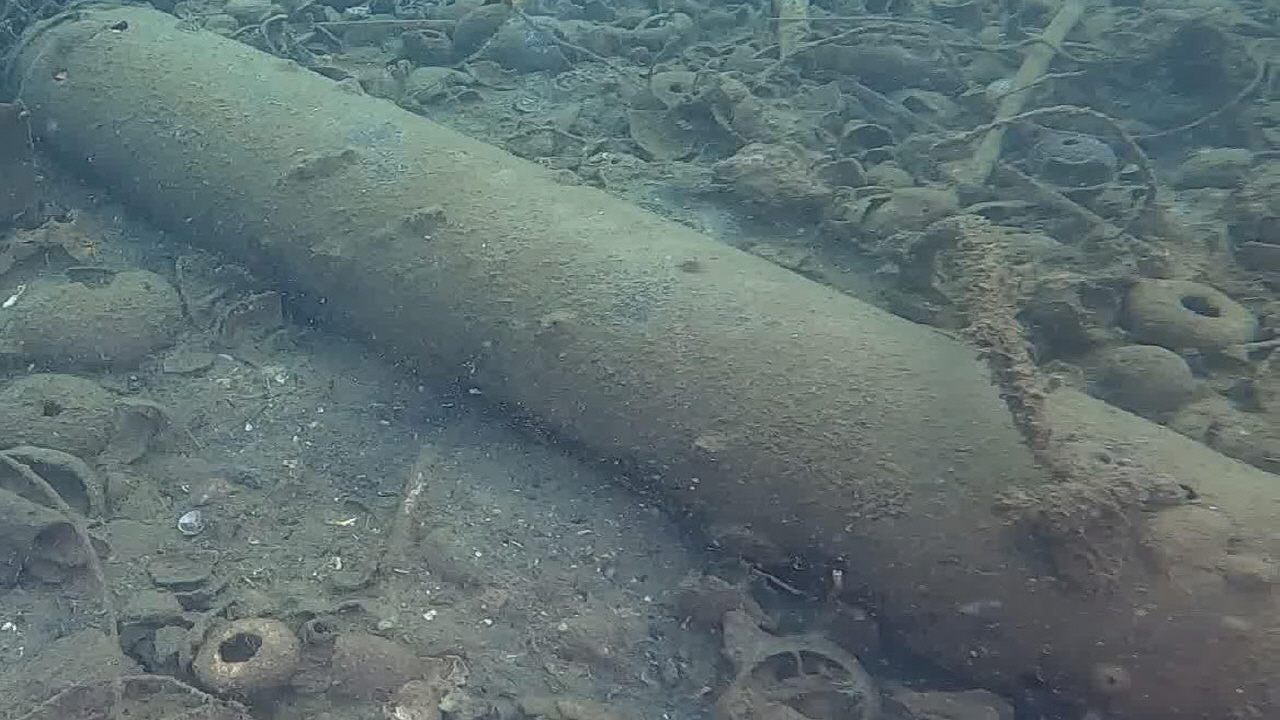eel fish trap: (3, 9, 1280, 720)
